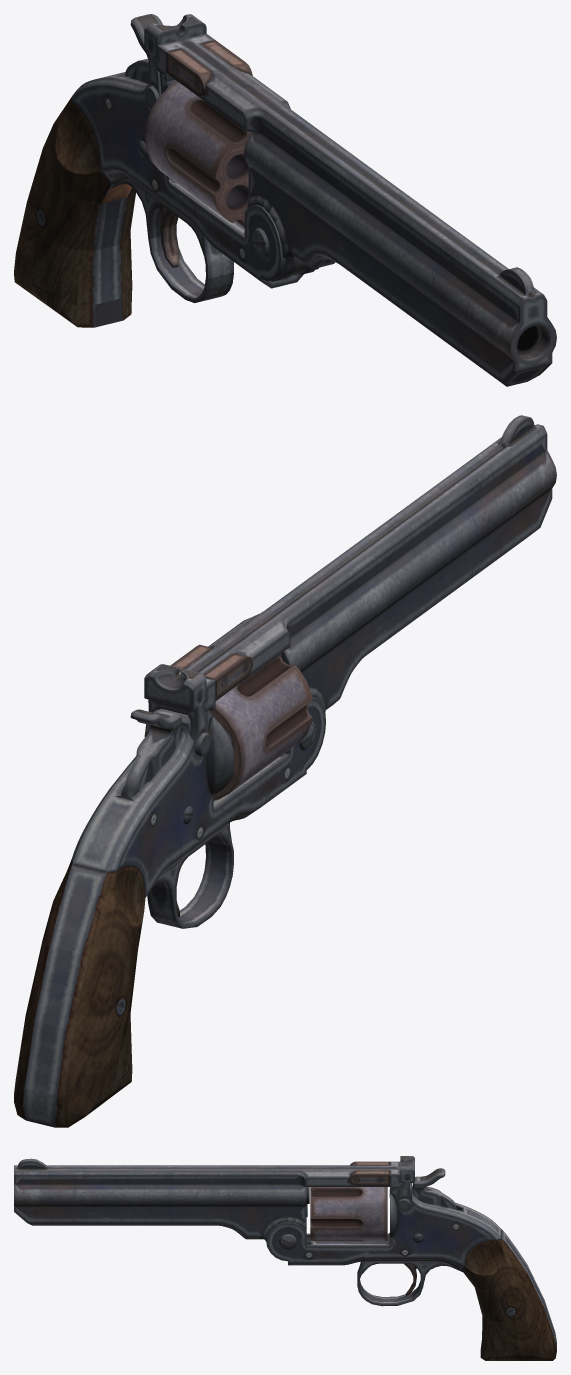
Rendered from 左轮手枪.FBX.
3 views of the same model, one above another, from view 1: azimuth 30°, elevation 25°; view 2: azimuth 150°, elevation 25°; view 3: azimuth 270°, elevation 25° (orthographic). The views are drawn at different scales.
Visible parts, largest first — view 1: 左轮手枪; view 2: 左轮手枪; view 3: 左轮手枪.
Boxes of the visible parts, box(x1,y1,x2,y2) form: 左轮手枪: box(14, 14, 556, 386); 左轮手枪: box(14, 415, 556, 1127); 左轮手枪: box(14, 1156, 556, 1360).
Bounding box in the file's own units: 0.0397 × 0.1354 × 0.3424.
